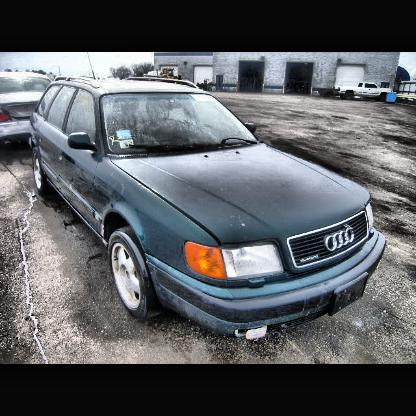Audi 100 Wagon 1994: (30, 78, 386, 341)
